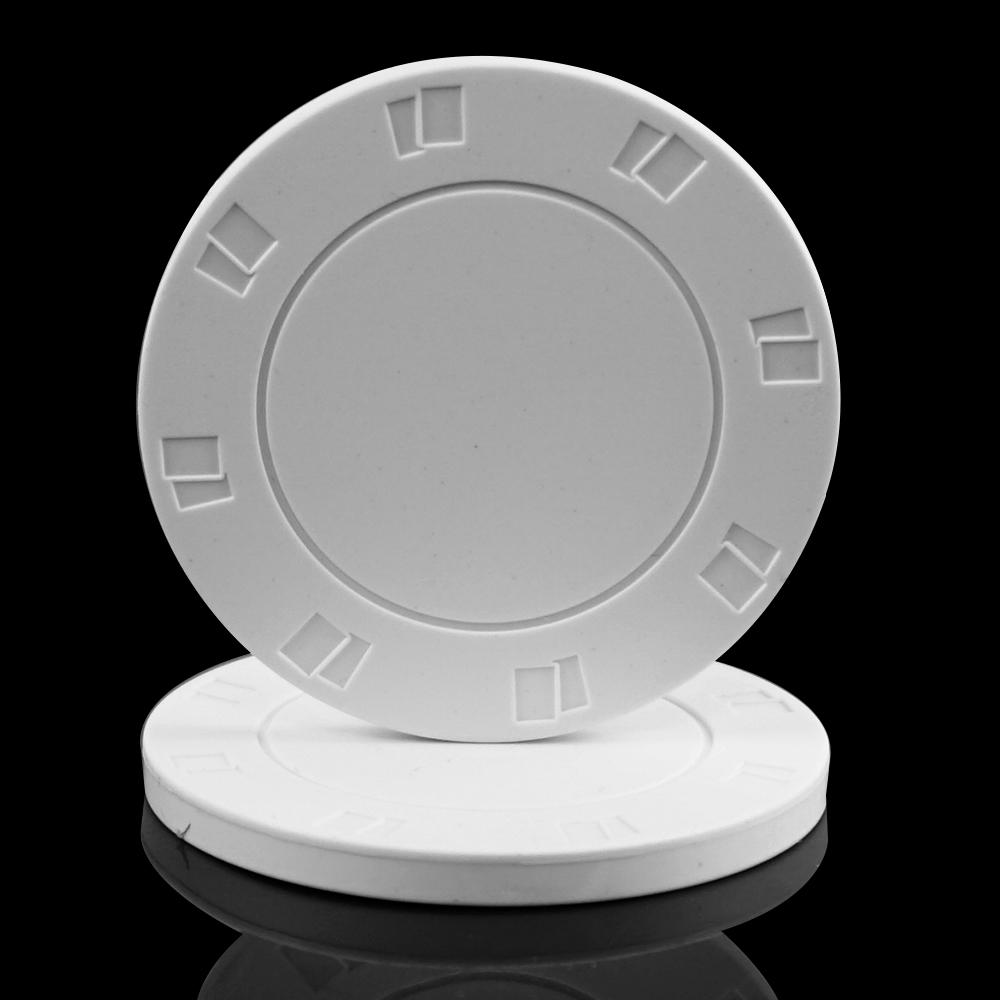chip-white: (139, 59, 838, 741), (143, 656, 830, 906)
